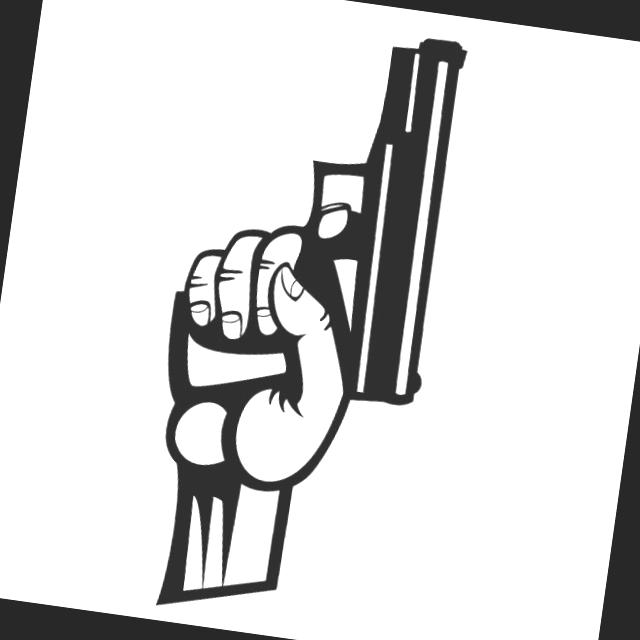handgun: (160, 5, 478, 432)
